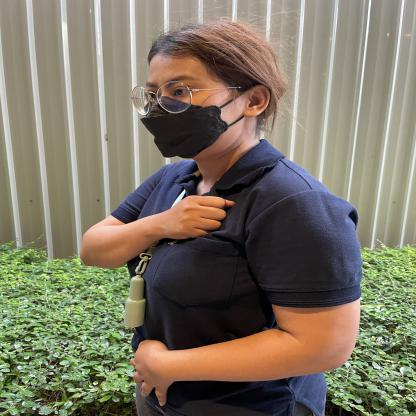Sadness: (46, 174, 249, 270)
